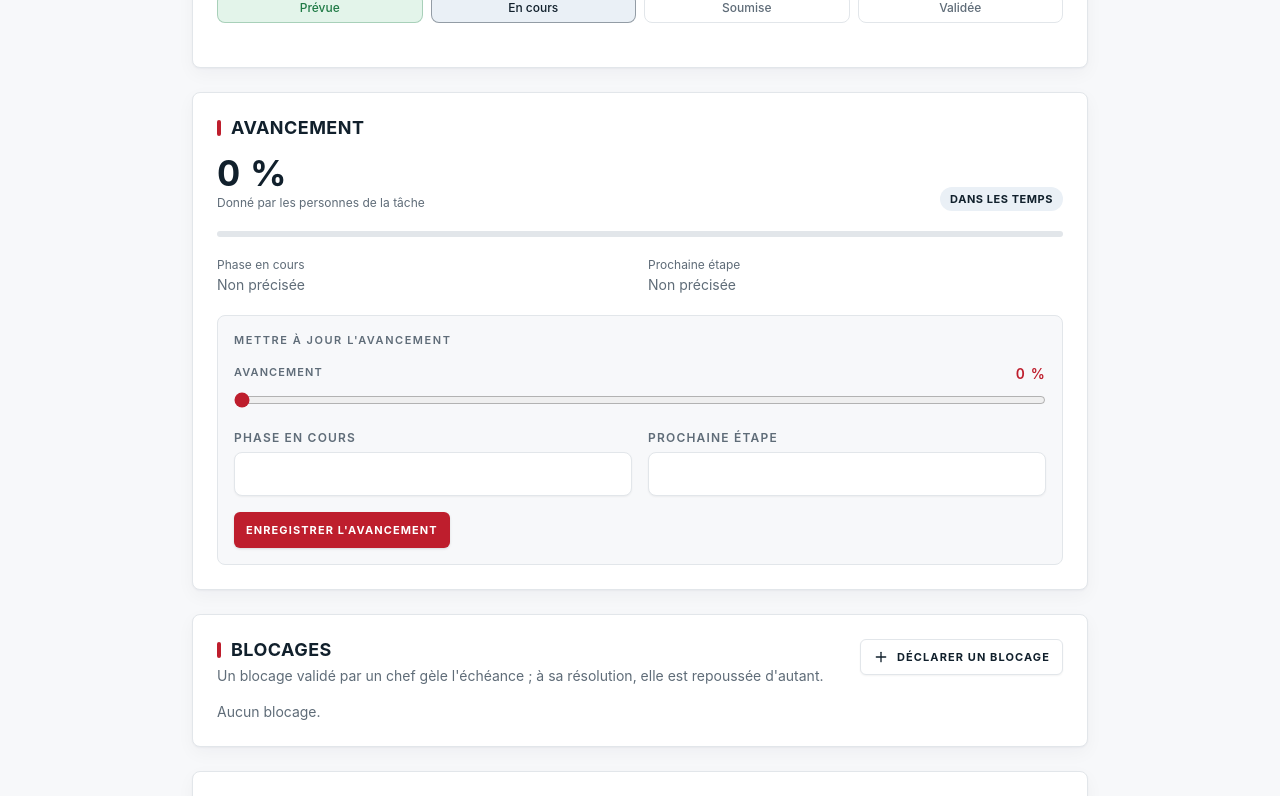
Scenario: TaskView › lets its people update its progress, its phase and its next step
This screenshot has width=1280, height=796.
(page scrolled)
Set the slider labelled "Avancement 0 %" to "10": (322, 400) [234,392,1046,408]
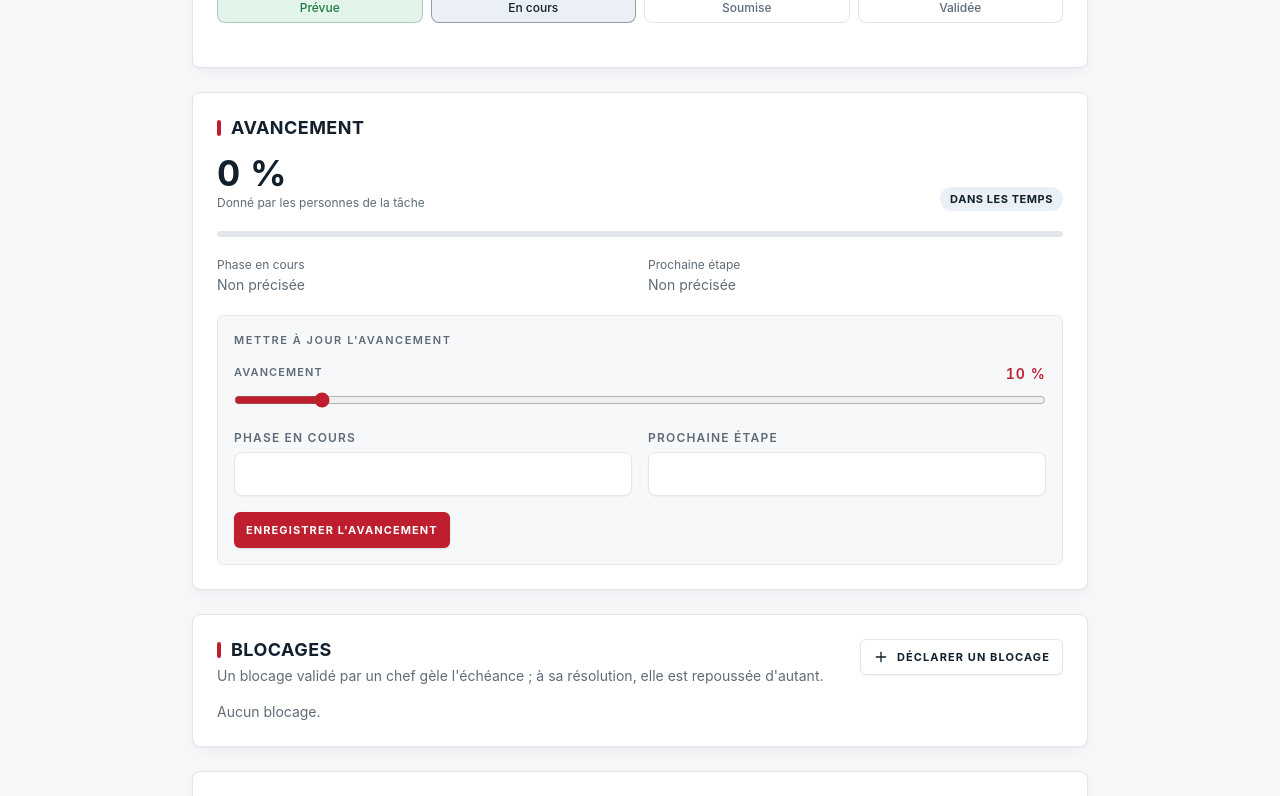
In the field labelled "Phase en cours": (433, 474) [234,452,632,496], type "Assemblage"
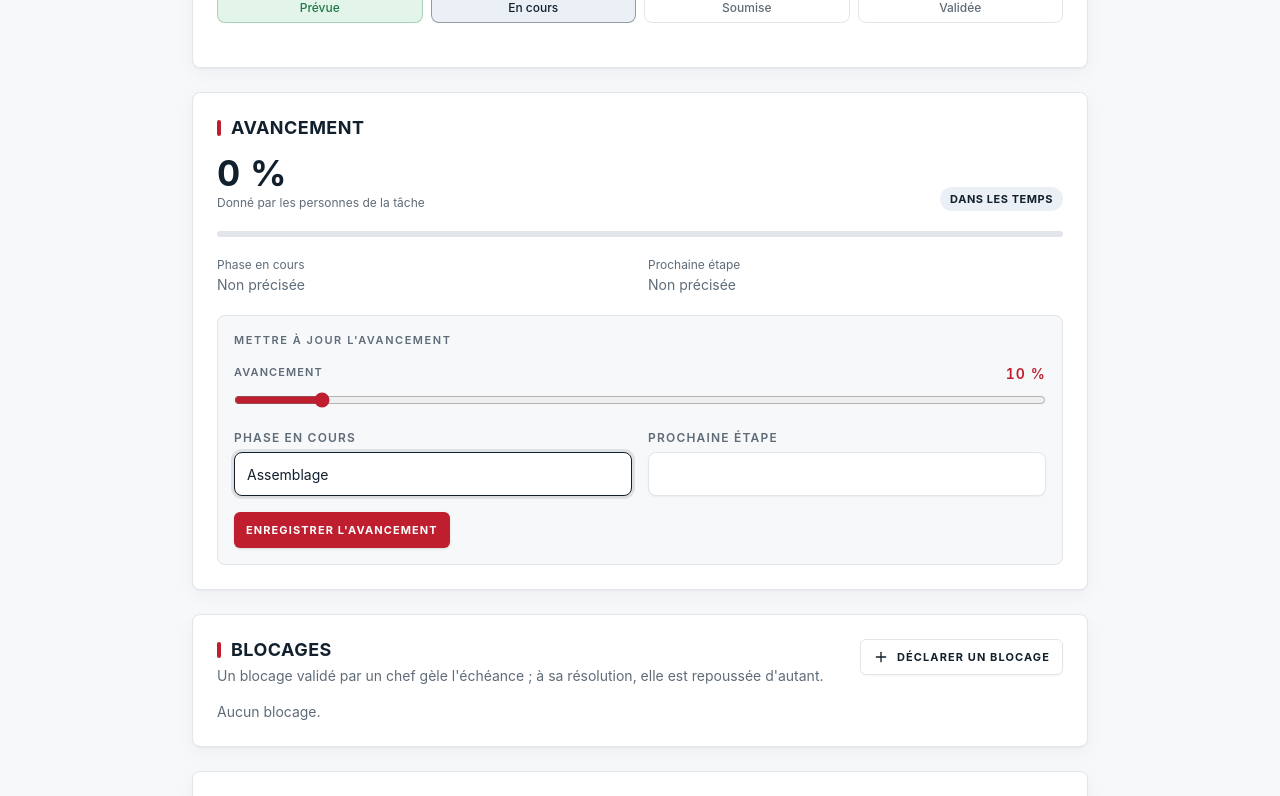
In the field labelled "Prochaine étape": (847, 474) [648,452,1046,496], type "Essais"
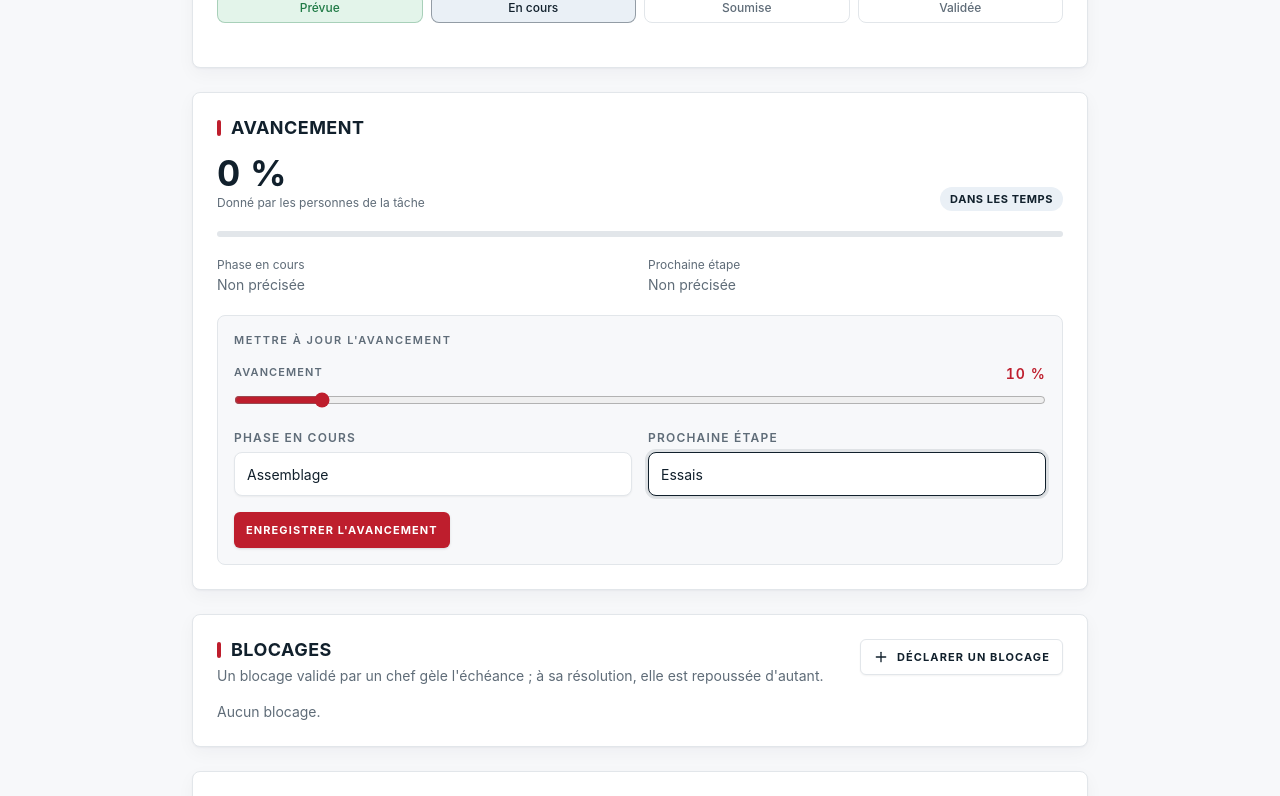
Click the button "Enregistrer l'avancement": (342, 530) [234,512,450,548]
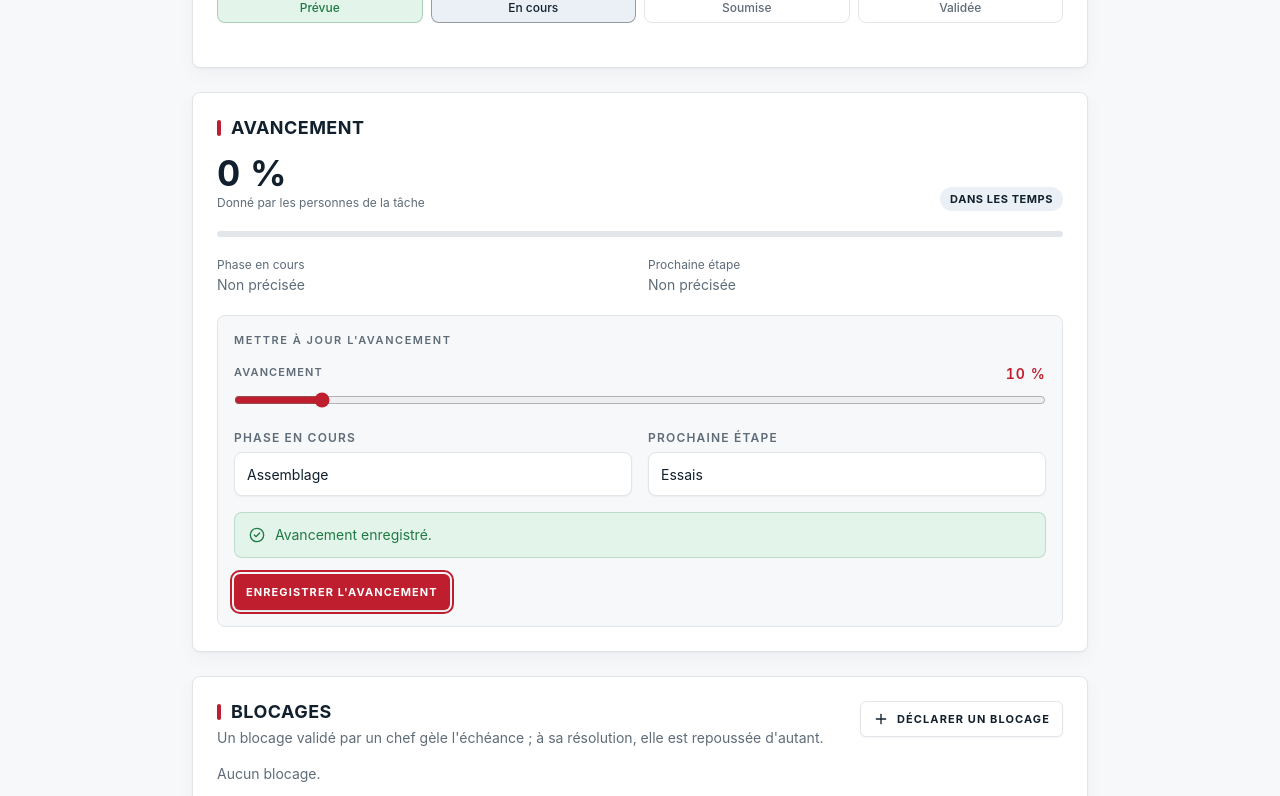
Expected: the text "Avancement enregistré." is shown, [275,525,432,545]
